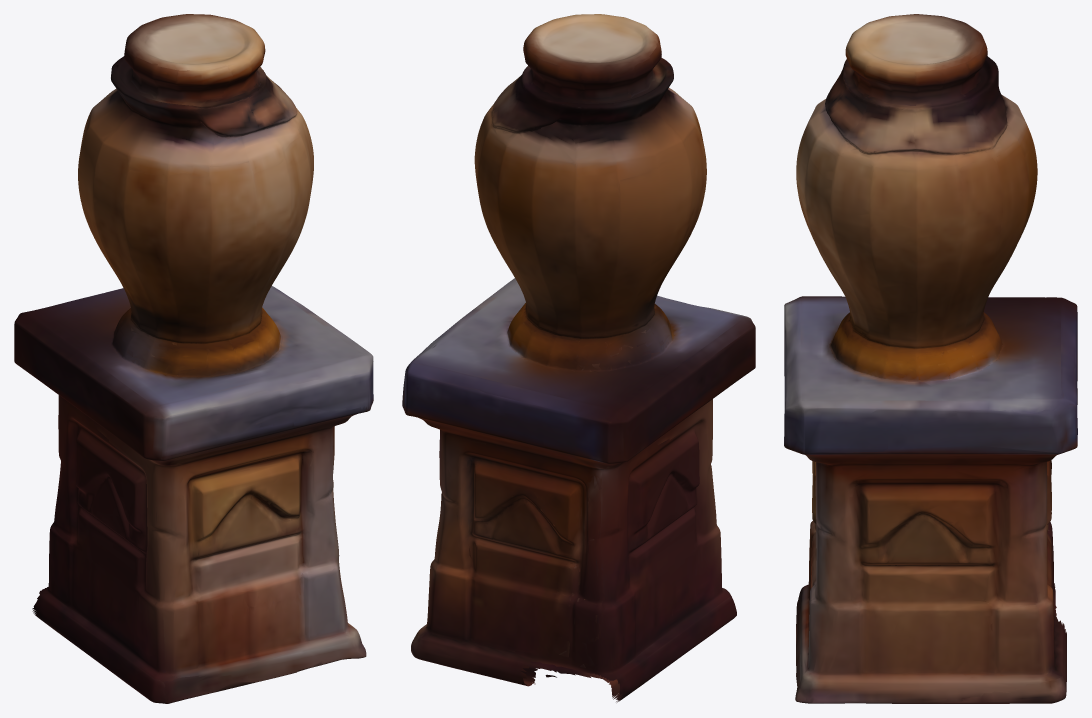
The model's file is column.glb.
The picture shows the model from 3 angles, left to right: view 1: azimuth 30°, elevation 25°; view 2: azimuth 150°, elevation 25°; view 3: azimuth 270°, elevation 25°; orthographic projection. The views are drawn at different scales.
Parts seen in each view (by area): view 1: material.002; view 2: material.002; view 3: material.002.
Part boxes in pixels (<box>): material.002: <box>14,14,373,703</box>; material.002: <box>402,14,755,702</box>; material.002: <box>784,14,1077,703</box>.
Bounding box in the file's own units: 0.1343 × 0.3337 × 0.1461.
Materials: 1 (1 with a texture image).
